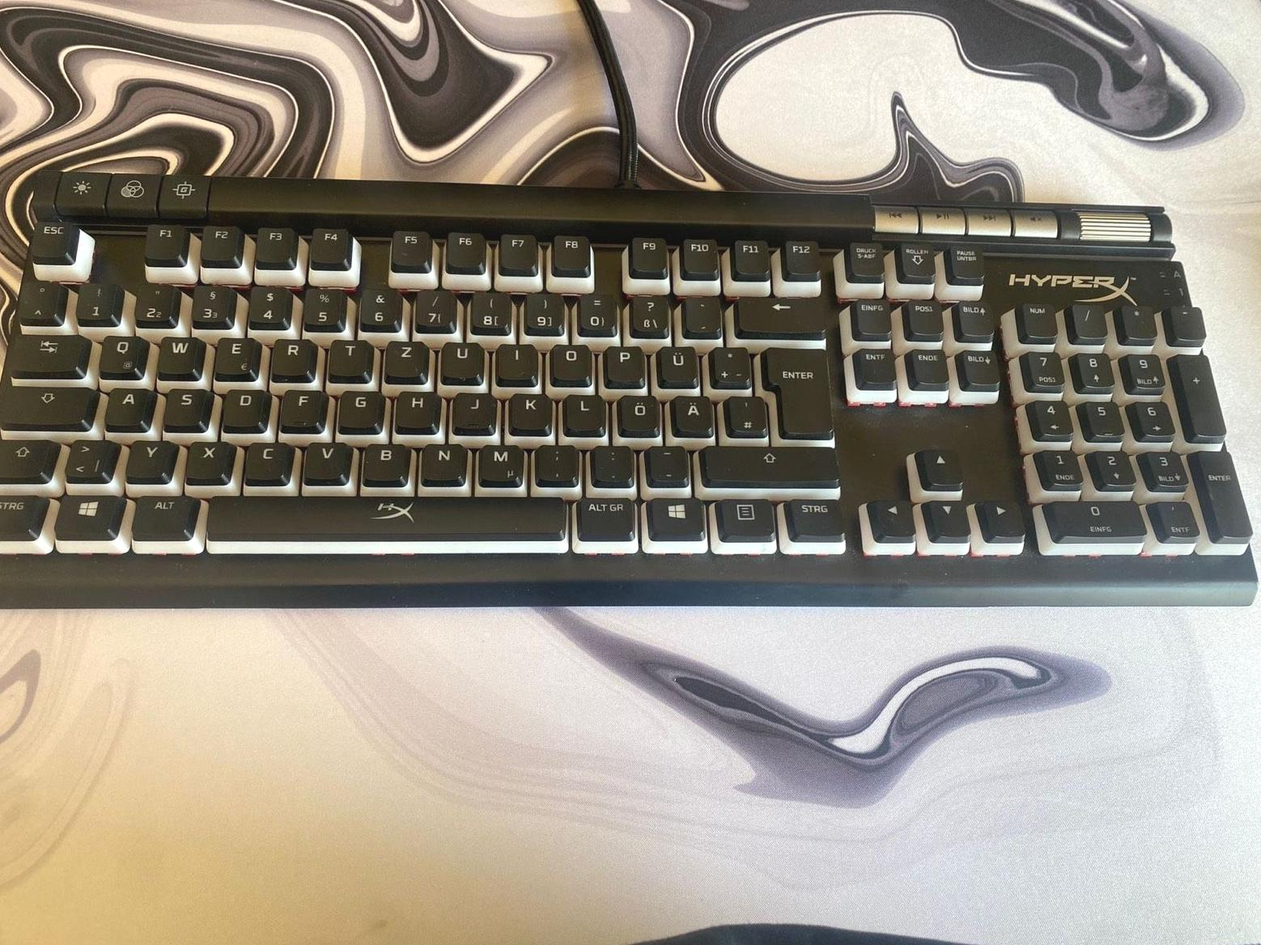0: (575, 290, 618, 334)
1: (73, 280, 114, 320)
2: (131, 281, 176, 324)
3: (189, 281, 234, 325)
4: (245, 282, 290, 327)
5: (300, 284, 346, 329)
6: (357, 284, 403, 328)
7: (412, 286, 456, 331)
8: (467, 289, 512, 334)
9: (520, 290, 566, 334)
a: (103, 384, 147, 426)
accent: (680, 293, 720, 335)
ae: (669, 392, 713, 434)
alt-left: (127, 491, 197, 544)
altgr-right: (572, 495, 637, 545)
b: (360, 441, 409, 483)
c: (242, 439, 291, 481)
caret: (15, 278, 61, 321)
comma: (533, 442, 578, 485)
d: (221, 385, 263, 427)
del: (732, 295, 824, 332)
e: (212, 333, 257, 376)
enter: (759, 341, 830, 434)
f: (279, 385, 322, 427)
g: (336, 387, 381, 430)
h: (393, 388, 439, 430)
hash: (723, 392, 766, 434)
i: (495, 341, 537, 380)
j: (451, 389, 496, 433)
k: (507, 389, 552, 431)
keyboard: (1, 167, 1261, 610)
l: (561, 391, 605, 432)
less: (62, 435, 117, 481)
m: (476, 443, 524, 485)
minus: (643, 443, 689, 485)
n: (418, 441, 466, 483)
o: (548, 342, 591, 382)
oe: (615, 392, 660, 434)
p: (602, 343, 643, 383)
plus: (708, 343, 749, 386)
point: (588, 443, 634, 485)
q: (96, 333, 146, 374)
r: (269, 336, 313, 375)
s: (161, 384, 205, 426)
shift-left: (1, 436, 57, 481)
shift-lock: (1, 383, 92, 426)
shift-right: (696, 443, 838, 485)
space: (199, 493, 571, 543)
ss: (626, 293, 669, 336)
strg-left: (1, 493, 46, 540)
strg-right: (780, 495, 847, 541)
t: (326, 337, 369, 376)
tab: (6, 330, 86, 372)
u: (439, 339, 483, 380)
ue: (656, 343, 698, 385)
v: (301, 439, 351, 482)
w: (155, 333, 198, 374)
x: (182, 438, 234, 481)
y: (123, 437, 176, 481)
z: (383, 338, 426, 378)
